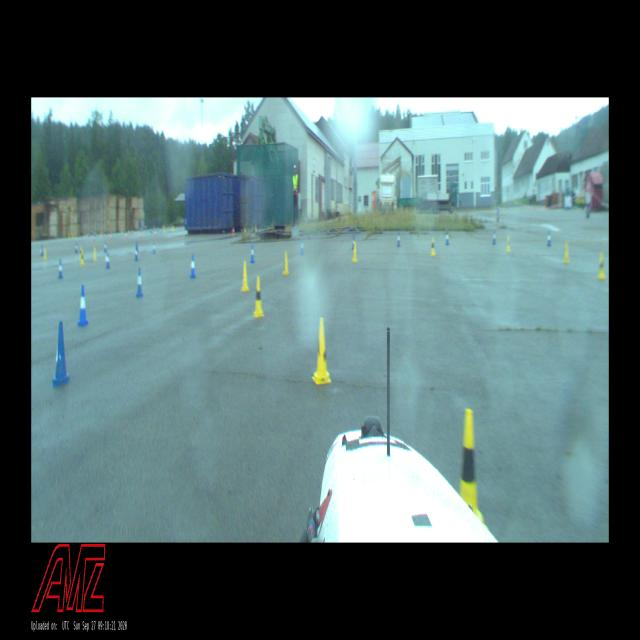blue_cone: (52, 321, 69, 386), (77, 285, 88, 326), (136, 267, 143, 297), (190, 254, 196, 278), (250, 244, 256, 264), (547, 230, 552, 247), (58, 259, 62, 279), (492, 230, 497, 245), (134, 245, 138, 261), (106, 253, 110, 269), (445, 231, 449, 246), (301, 239, 304, 255), (397, 232, 400, 246)
yellow_cone: (459, 409, 489, 532), (312, 318, 332, 385), (253, 276, 264, 317), (241, 261, 249, 291), (598, 252, 604, 280), (283, 251, 289, 275), (352, 242, 358, 262), (564, 240, 569, 264), (431, 238, 435, 255), (506, 236, 510, 252), (81, 251, 84, 265)
